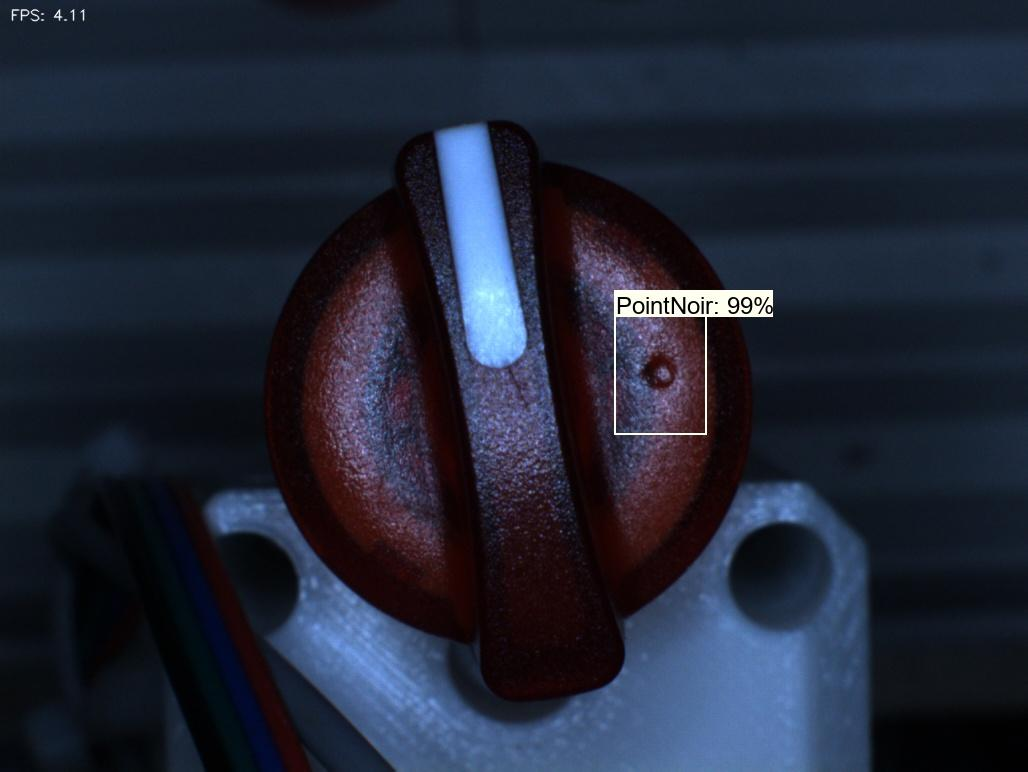Choc: (616, 332, 706, 418)
